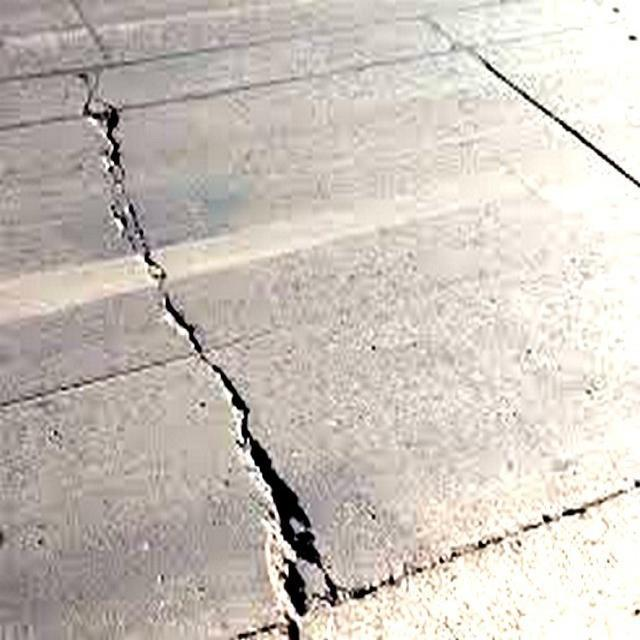moderate crack: (358, 502, 378, 521)
severe crack: (478, 51, 639, 206), (0, 477, 182, 578), (82, 88, 159, 274), (1, 360, 174, 412), (64, 2, 112, 54), (413, 13, 452, 47), (83, 100, 118, 131), (470, 50, 508, 78), (440, 34, 479, 61), (307, 582, 342, 609), (111, 207, 130, 232), (108, 145, 123, 168)
